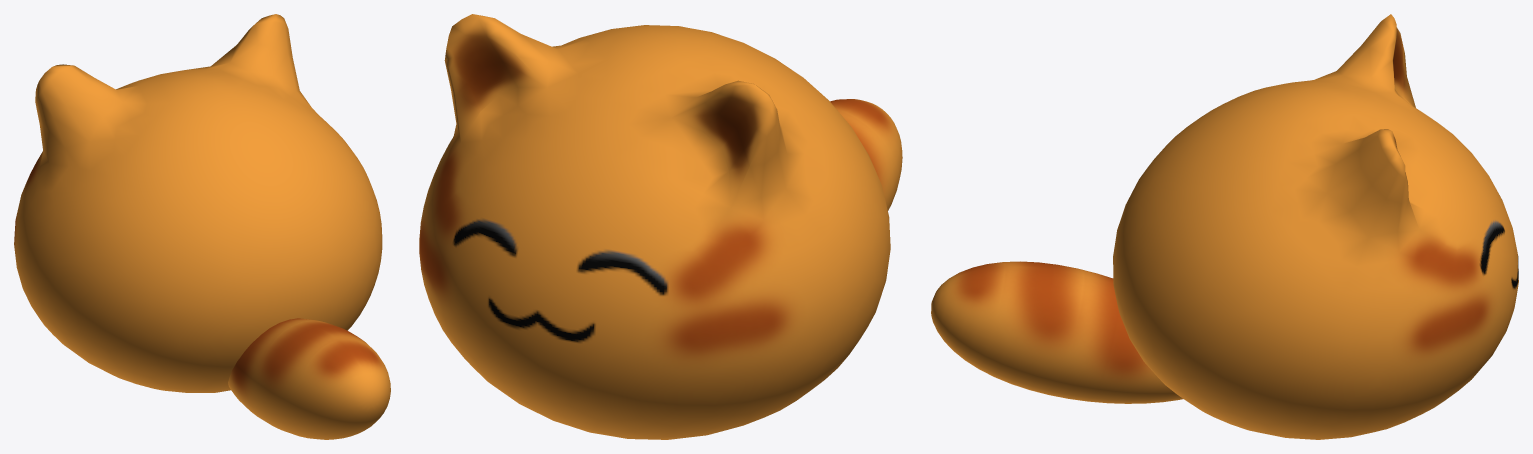
Rendered from critter.glb.
3 renders of one model, left to right at view 1: azimuth 30°, elevation 25°; view 2: azimuth 150°, elevation 25°; view 3: azimuth 270°, elevation 25°, orthographic. The views are drawn at different scales.
Visible parts, largest first — view 1: Icosphere; view 2: Icosphere; view 3: Icosphere.
Part boxes in pixels (<box>): Icosphere: <box>14,14,390,439</box>; Icosphere: <box>419,14,902,439</box>; Icosphere: <box>931,14,1518,439</box>.
Bounding box in the file's own units: 0.5272 × 0.492 × 0.7637.
1 material, 1 textured.
